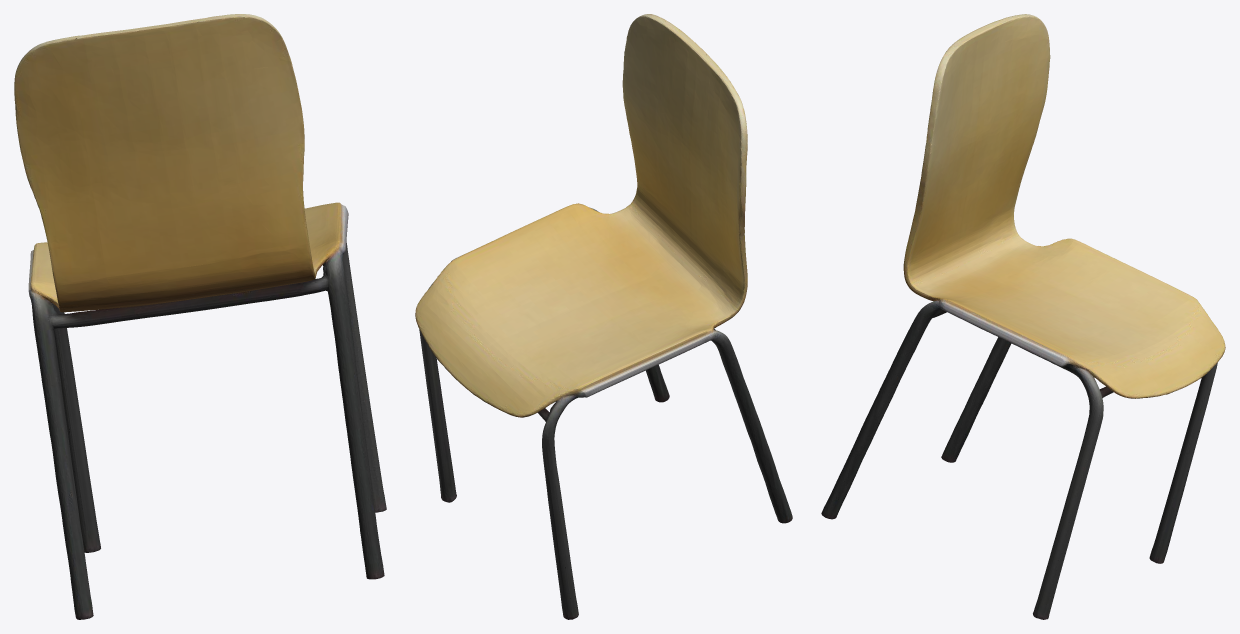
File: light-colored_wooden_chair_at_middle_row_left_table_(left)_000.glb
3 renders of one model, left to right at view 1: azimuth 30°, elevation 25°; view 2: azimuth 150°, elevation 25°; view 3: azimuth 270°, elevation 25°, orthographic. The views are drawn at different scales.
Parts seen in each view (by area): view 1: light-colored_wooden_chair_at_middle_row_left_table_(left)_0; view 2: light-colored_wooden_chair_at_middle_row_left_table_(left)_0; view 3: light-colored_wooden_chair_at_middle_row_left_table_(left)_0.
Part boxes in pixels (bbox=[...]): light-colored_wooden_chair_at_middle_row_left_table_(left)_0: bbox=[14, 14, 386, 619]; light-colored_wooden_chair_at_middle_row_left_table_(left)_0: bbox=[415, 14, 792, 619]; light-colored_wooden_chair_at_middle_row_left_table_(left)_0: bbox=[821, 14, 1225, 619].
Size of the model in its own units: 0.3247 by 0.5249 by 0.3698.
Materials: 1 (1 with a texture image).
